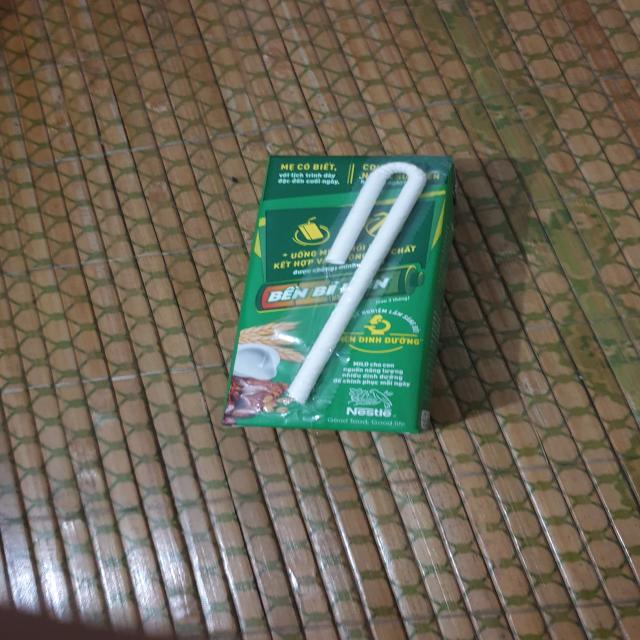Milo: (218, 149, 465, 442)
